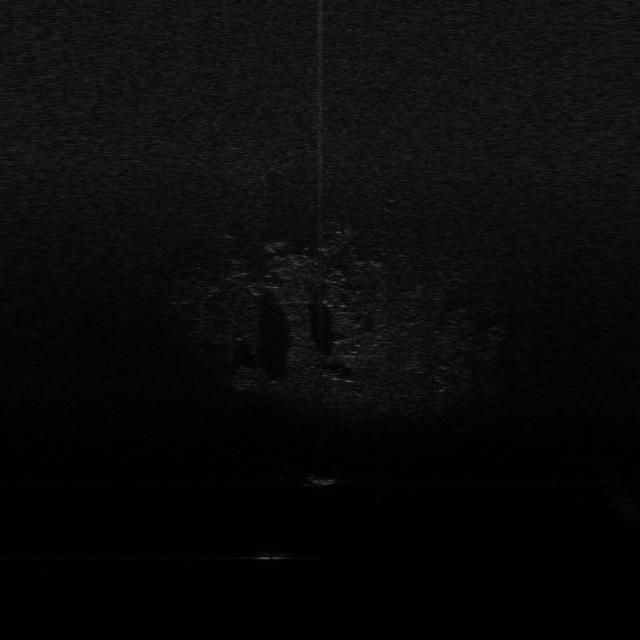cube: (250, 547, 294, 562)
square cage: (304, 472, 340, 486)
